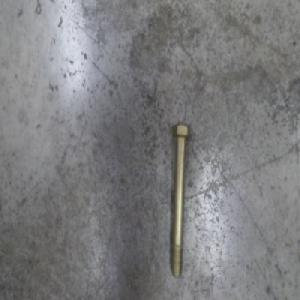Bolt: (170, 121, 191, 279)
